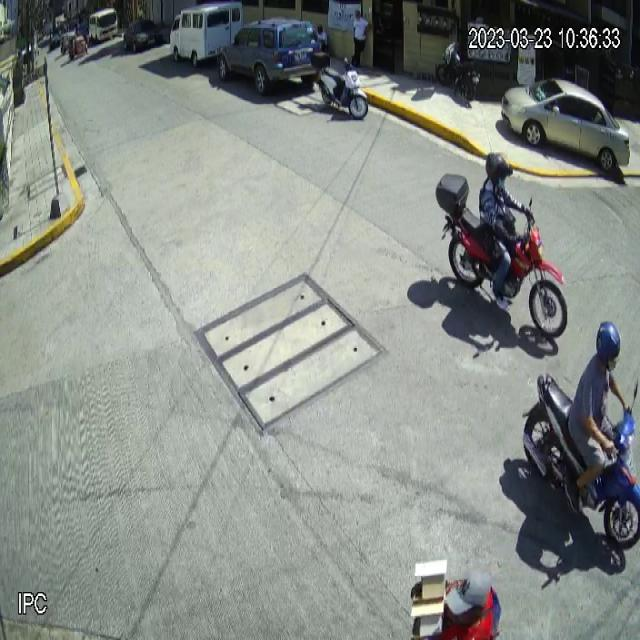Car: (501, 79, 631, 172), (217, 16, 322, 96)
Motorcycle: (435, 172, 568, 338), (520, 370, 640, 551), (311, 52, 369, 121)
Van: (170, 0, 243, 67)
